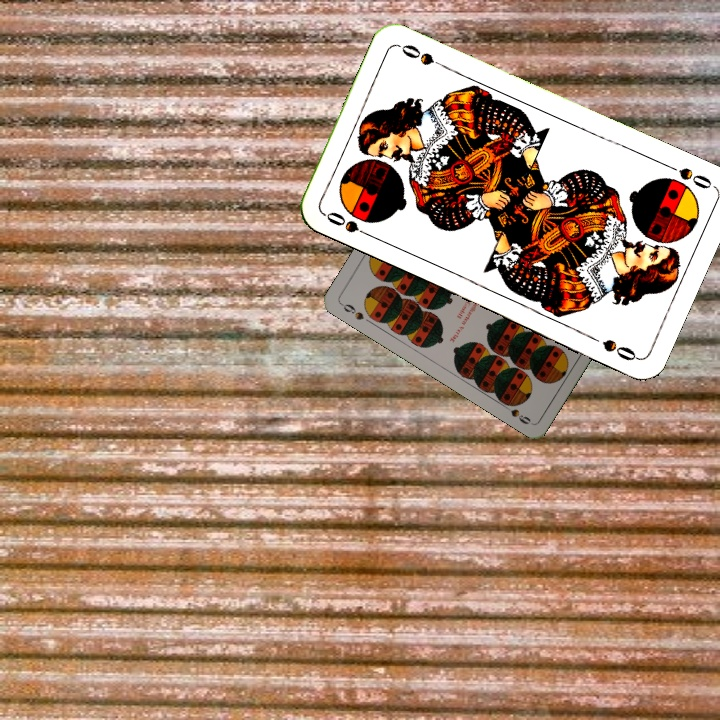S9: (337, 299, 367, 323)
SO: (321, 207, 376, 241), (661, 159, 717, 192)
